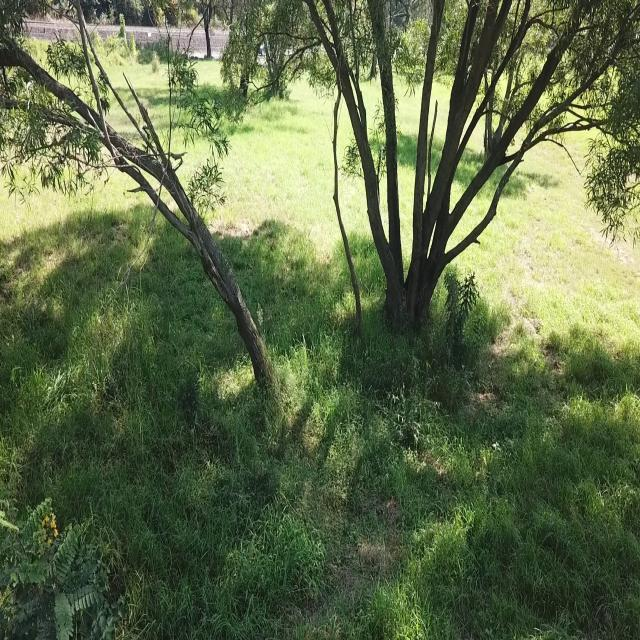Mysore-Thorn-Weed: (0, 481, 110, 640)
